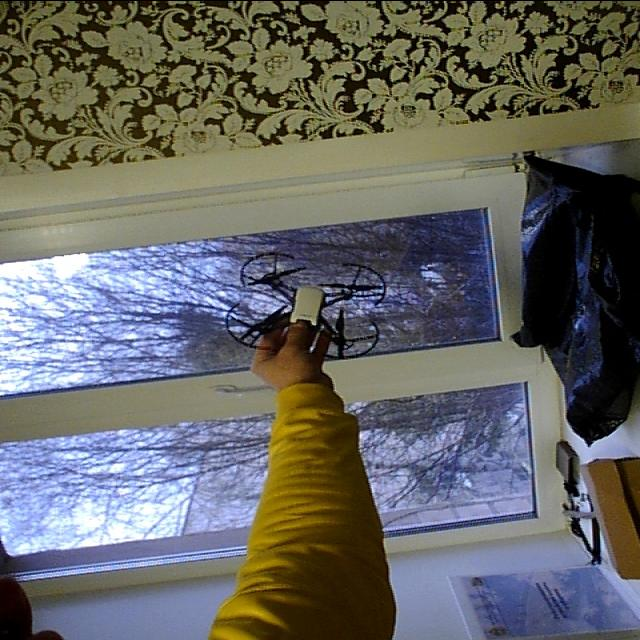drone: (210, 252, 400, 361)
